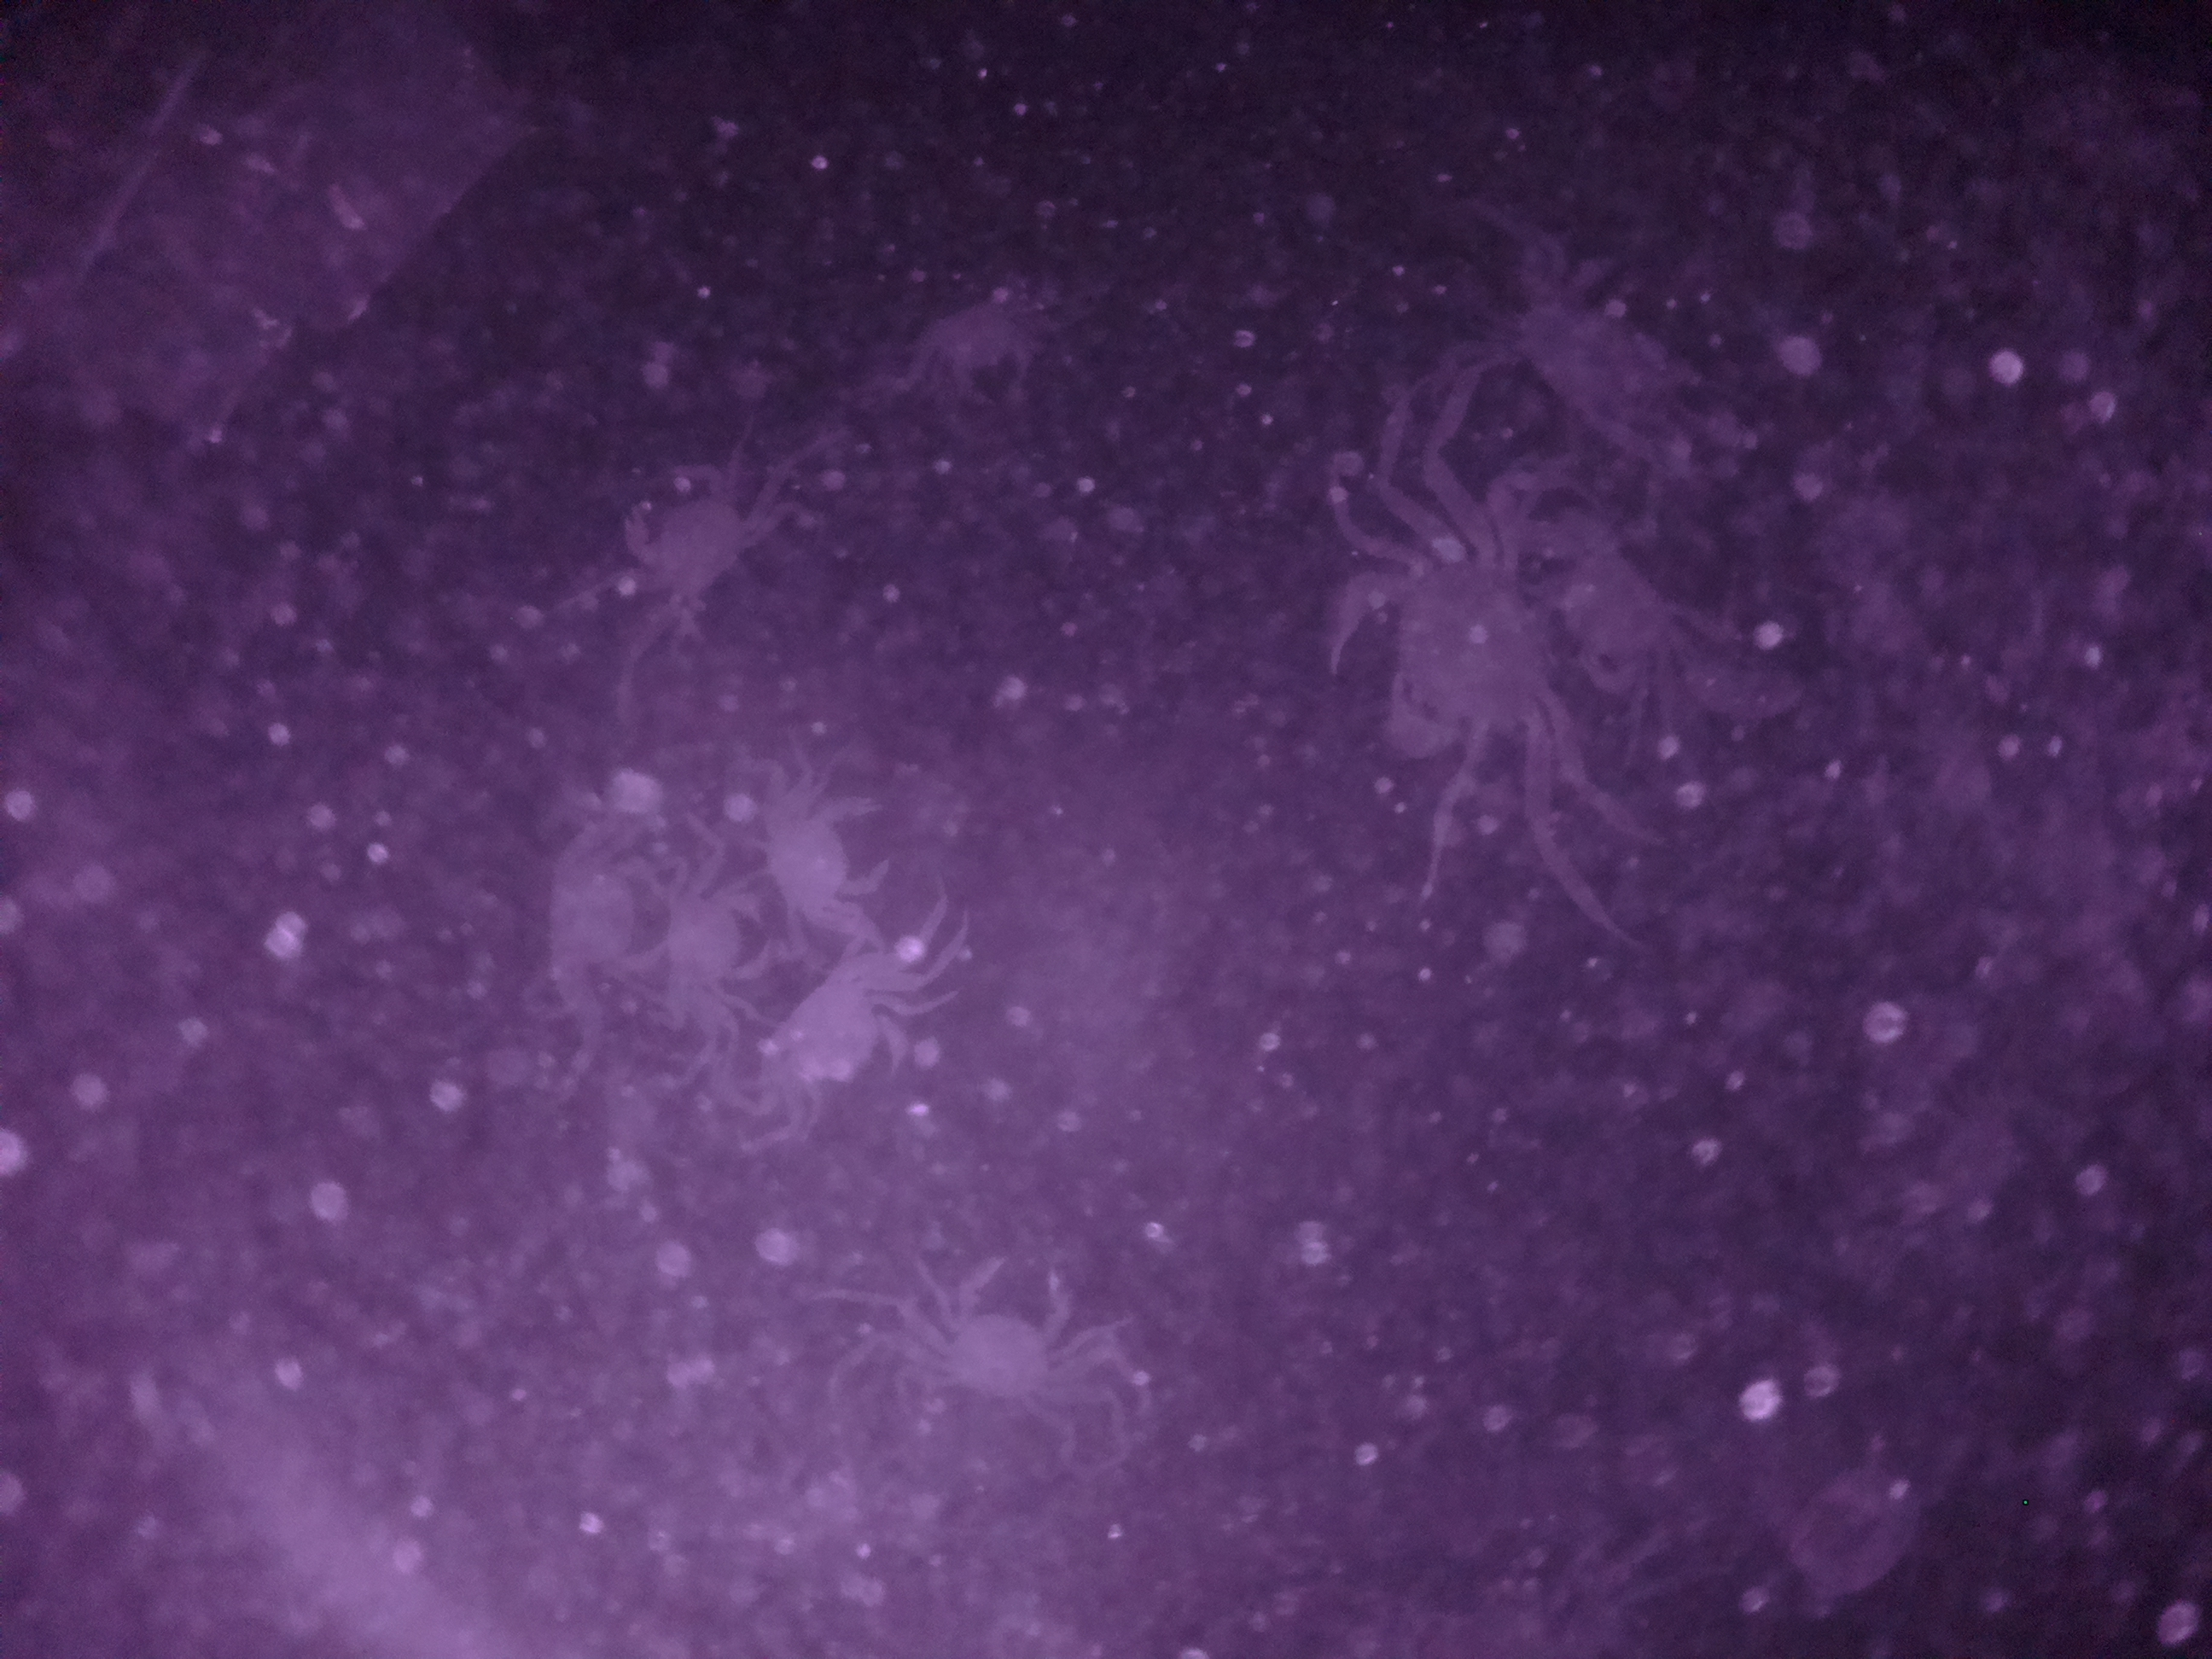Crab: (1306, 516, 1580, 781), (907, 1241, 1106, 1419), (745, 939, 918, 1129), (613, 436, 751, 620), (643, 843, 758, 1063), (758, 770, 907, 931)
